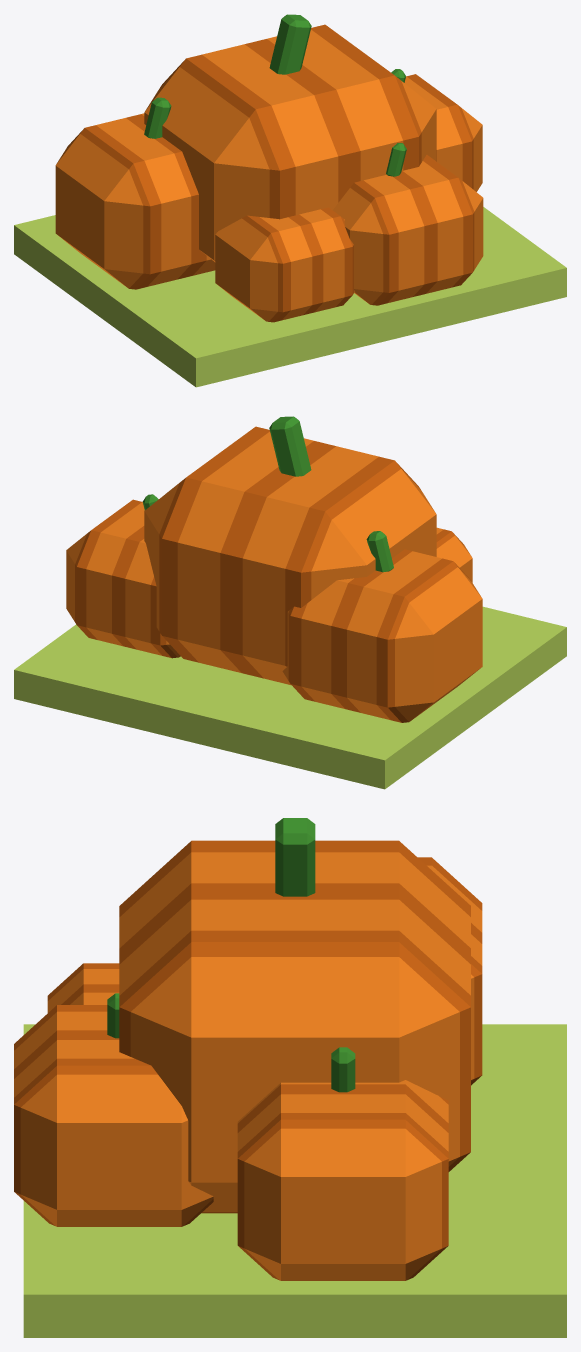
File: GourdPile.fbx
3 renders of one model, top to bottom at view 1: azimuth 30°, elevation 25°; view 2: azimuth 150°, elevation 25°; view 3: azimuth 270°, elevation 25°, orthographic. The views are drawn at different scales.
Visible parts, largest first — view 1: GourdPile; view 2: GourdPile; view 3: GourdPile.
Boxes of the visible parts, x1,y1,x2,y2 form: GourdPile: (14, 14, 566, 387); GourdPile: (14, 416, 566, 789); GourdPile: (14, 818, 566, 1337).
Size of the model in its own units: 4.06 by 2.66 by 3.46.
1 material, 1 textured.
